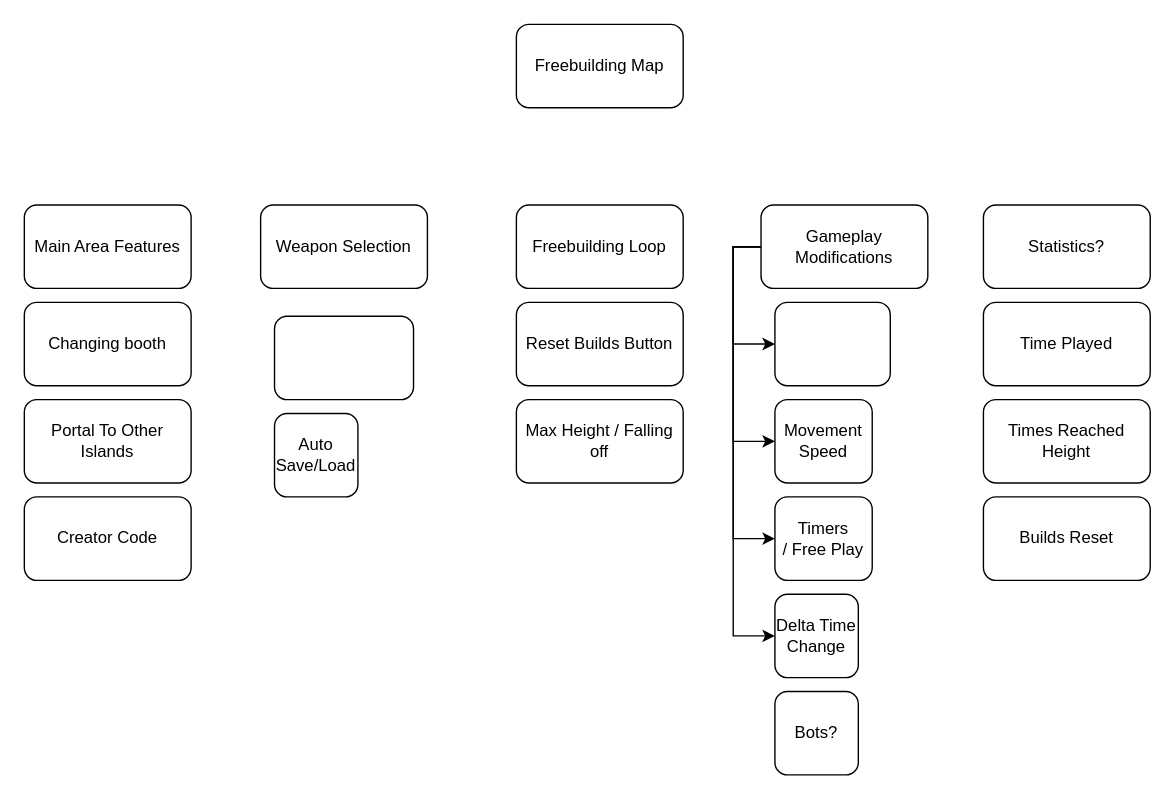
The diagram is 1175 pixels wide and 799 high, and some of its shapes have lost their labels. Each missing label, with the box of its shape:
Crosshair Modifications?: (774, 301, 890, 386)
Shotguns, ARs, Mobility: (273, 315, 414, 400)
